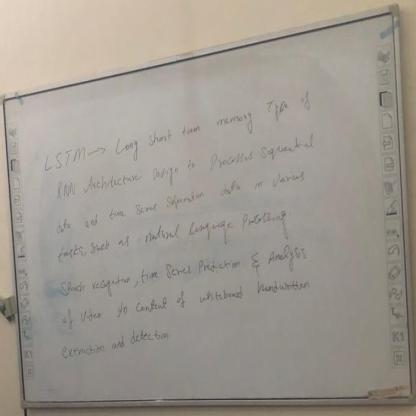Handwritten text: (34, 79, 320, 182), (46, 126, 321, 208), (51, 161, 313, 241), (49, 199, 306, 270), (53, 239, 319, 303), (52, 273, 318, 334), (50, 322, 186, 366)
Whiteboard: (0, 9, 414, 415)
